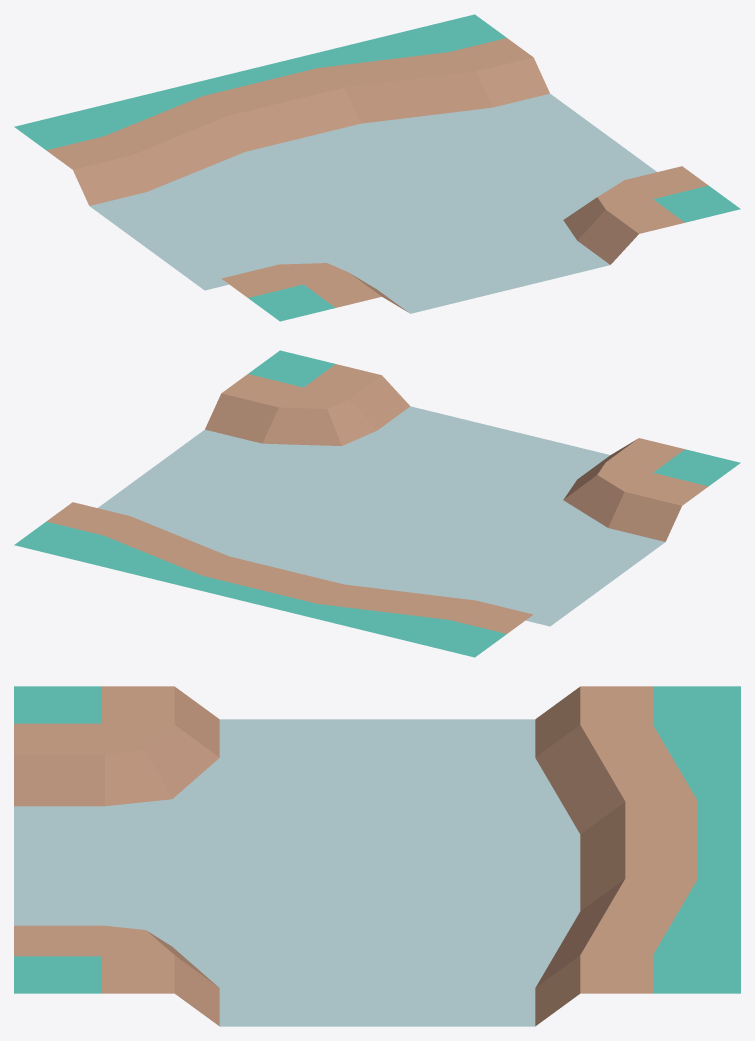
The model's file is ground_riverSplit.glb.
3 renders of one model, top to bottom at view 1: azimuth 30°, elevation 25°; view 2: azimuth 150°, elevation 25°; view 3: azimuth 270°, elevation 25°, orthographic. The views are drawn at different scales.
Parts seen in each view (by area): view 1: ground_riverSplit; view 2: ground_riverSplit; view 3: ground_riverSplit.
Boxes of the visible parts, box(x1,y1,x2,y2) form: ground_riverSplit: box(14, 14, 740, 321); ground_riverSplit: box(14, 350, 740, 657); ground_riverSplit: box(14, 686, 740, 1026).
Bounding box in the file's own units: 1 × 0.05 × 1.
